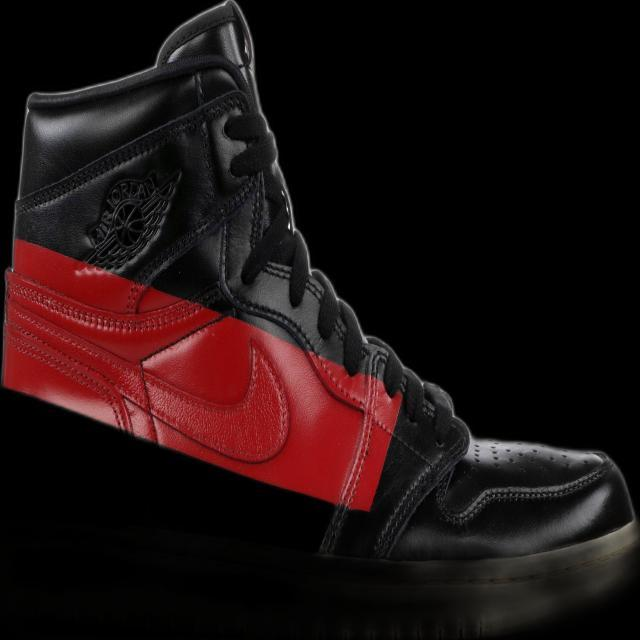J1_InsoleChar: (0, 0, 638, 609)
J1_ShoeLogo: (79, 165, 181, 274)
J1_StitchPattern: (4, 274, 291, 463), (258, 257, 446, 428), (15, 87, 255, 214), (369, 437, 614, 558), (315, 335, 407, 555), (4, 304, 138, 437), (132, 167, 271, 288), (257, 256, 368, 373), (440, 460, 611, 526), (358, 334, 446, 426), (371, 456, 439, 556)
